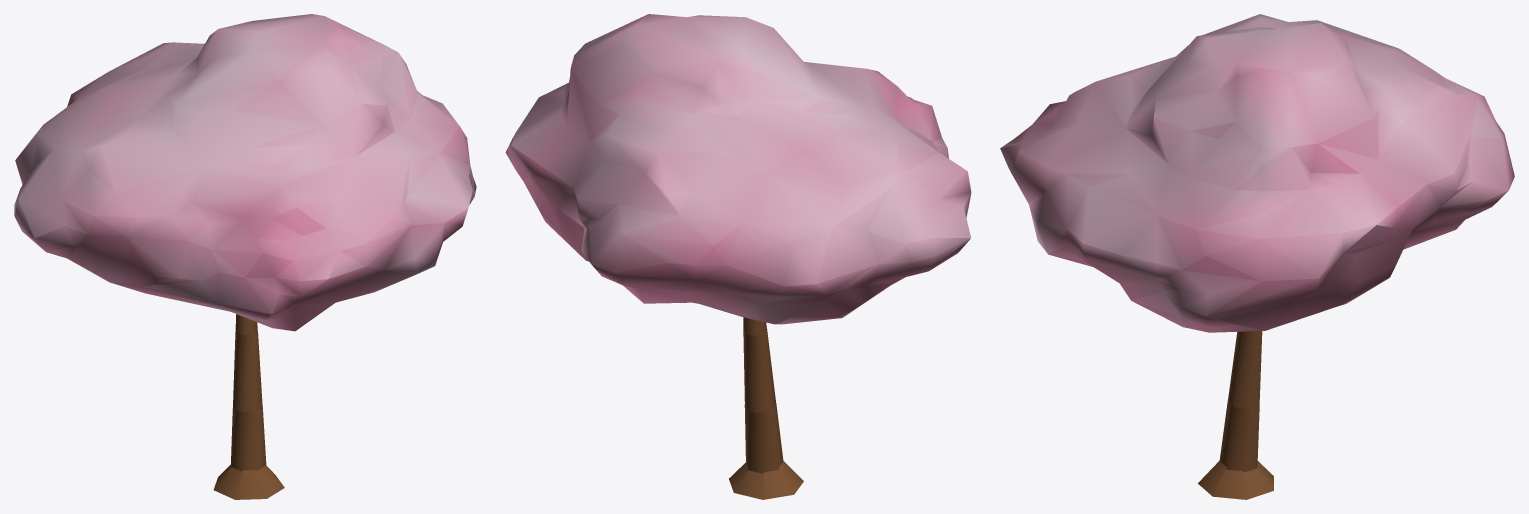
Rendered from cherry_blossom.glb.
3 views of the same model, side by side, from view 1: azimuth 30°, elevation 25°; view 2: azimuth 150°, elevation 25°; view 3: azimuth 270°, elevation 25° (orthographic). The views are drawn at different scales.
Visible parts, largest first — view 1: decor-cherry_blossom; view 2: decor-cherry_blossom; view 3: decor-cherry_blossom.
Boxes of the visible parts, x1,y1,x2,y2 form: decor-cherry_blossom: (14,14,476,499); decor-cherry_blossom: (505,14,971,499); decor-cherry_blossom: (1000,14,1514,499).
Bounding box in the file's own units: 3.27 × 3.19 × 3.17.
